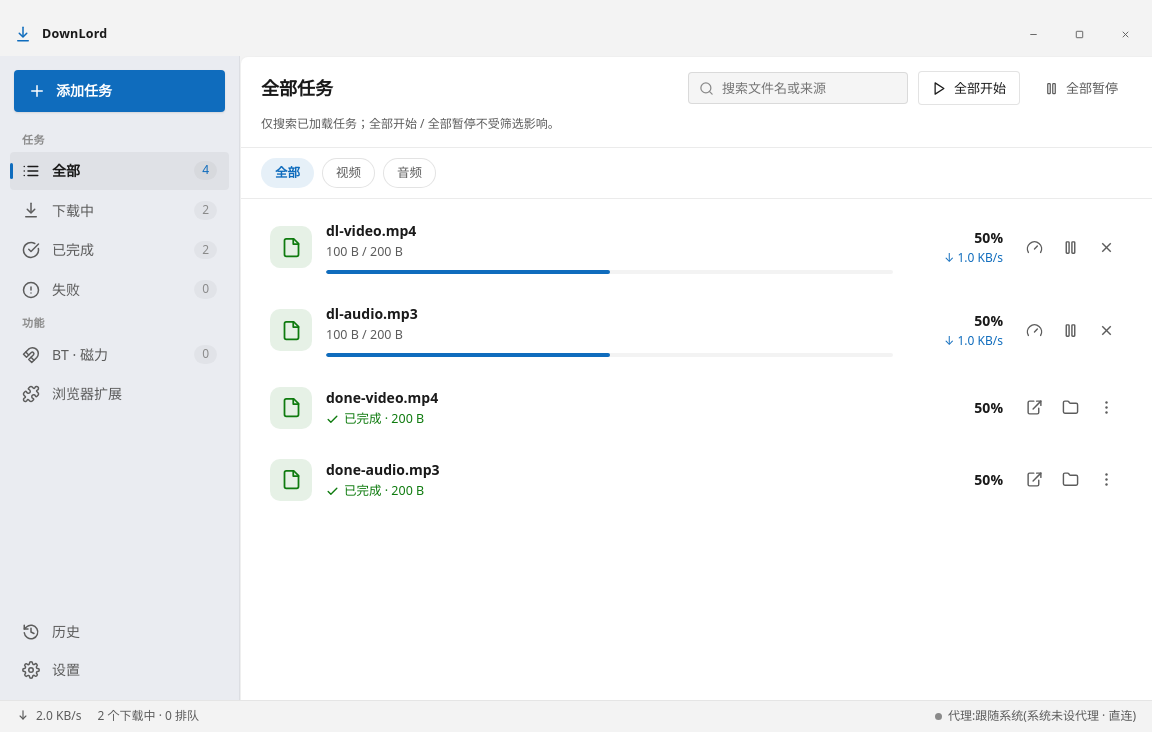
类型 chips × 状态 nav 正交:选「视频」+「下载中」→ 仅下载中视频;左导航计数不受 chips 影响
Expected: the text "dl-video.mp4" is shown, x1=326 y1=221 x2=416 y2=240
Expected: the text "dl-audio.mp3" is shown, x1=326 y1=304 x2=418 y2=323
Click the text "视频": (348,173) x1=322 y1=158 x2=375 y2=188
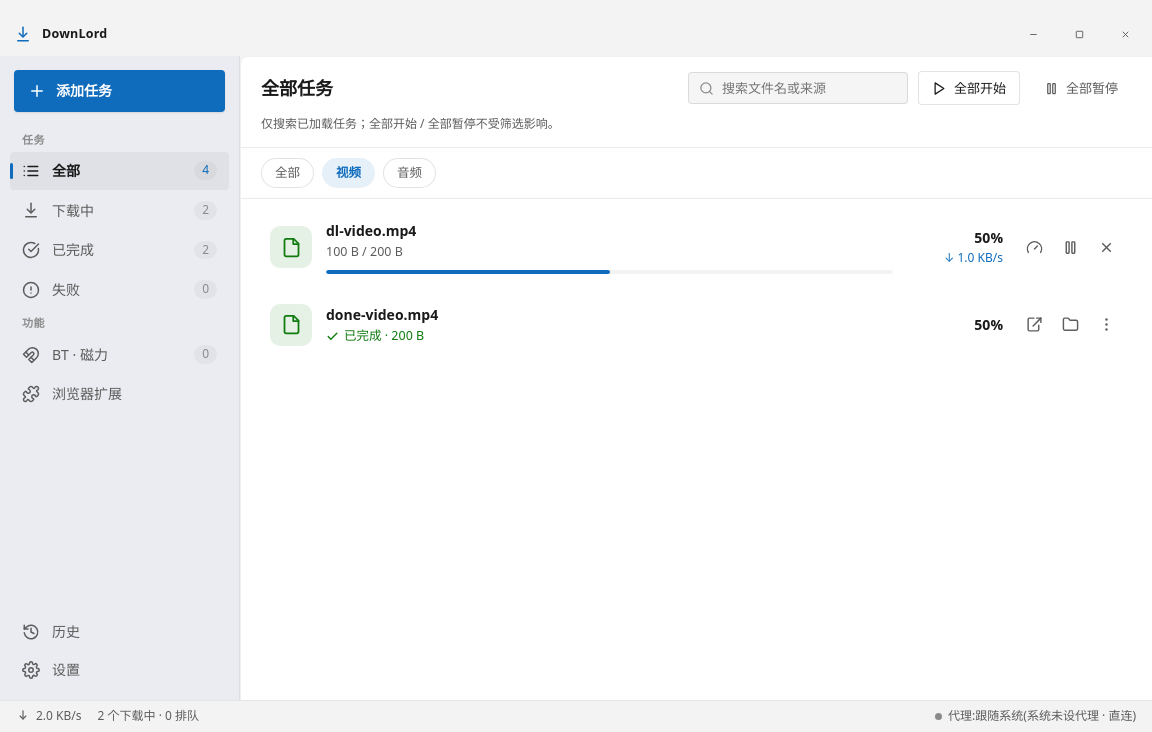
Expected: the text "dl-video.mp4" is shown, x1=326 y1=221 x2=416 y2=240
Expected: the text "dl-audio.mp3" is gone
Expected: the text "done-audio.mp3" is gone
Click the text "下载中": (73,210) x1=52 y1=201 x2=94 y2=220
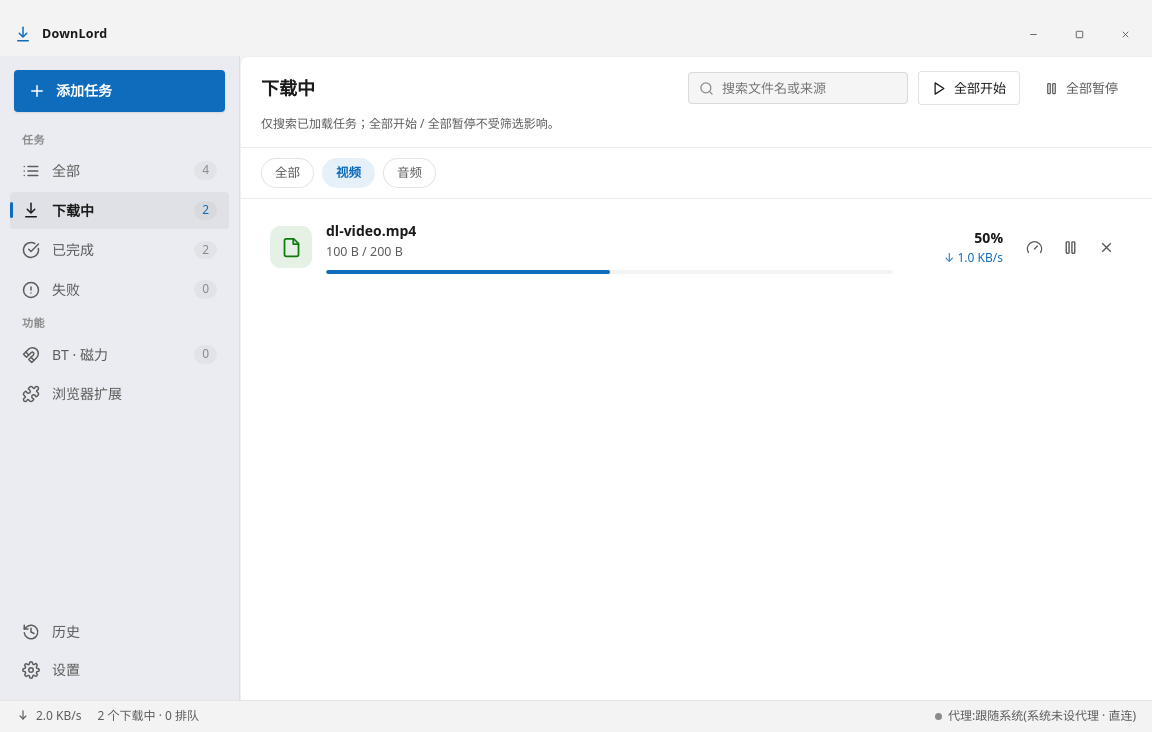
Expected: the text "dl-video.mp4" is shown, x1=326 y1=221 x2=416 y2=240
Expected: the text "done-video.mp4" is gone
